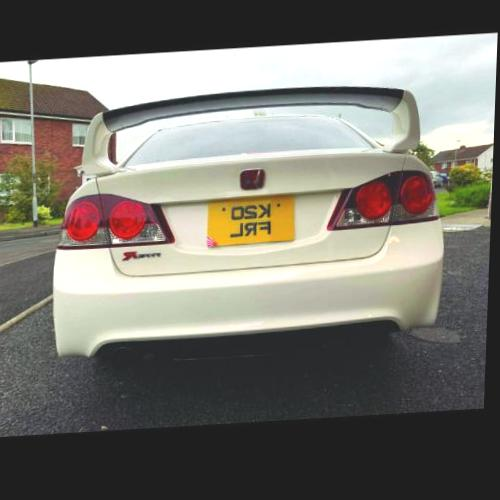License_Plate: (204, 192, 296, 250)
